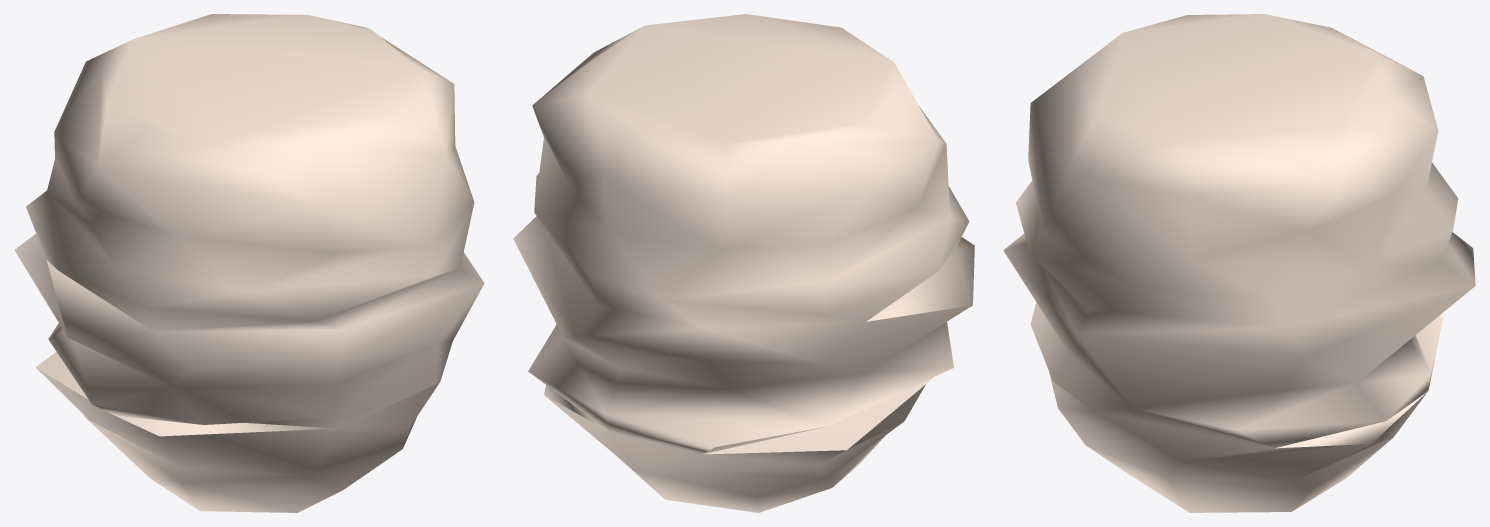
The model's file is decoration0002.obj.
The picture shows the model from 3 angles, left to right: view 1: azimuth 30°, elevation 25°; view 2: azimuth 150°, elevation 25°; view 3: azimuth 270°, elevation 25°; orthographic projection.
Size of the model in its own units: 0.189 by 0.172 by 0.19.
1 material, 1 textured.
